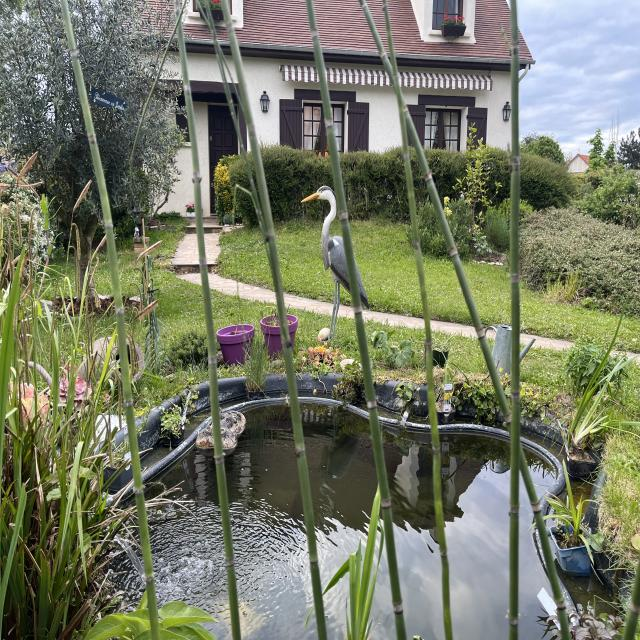Heron: (292, 180, 378, 358)
